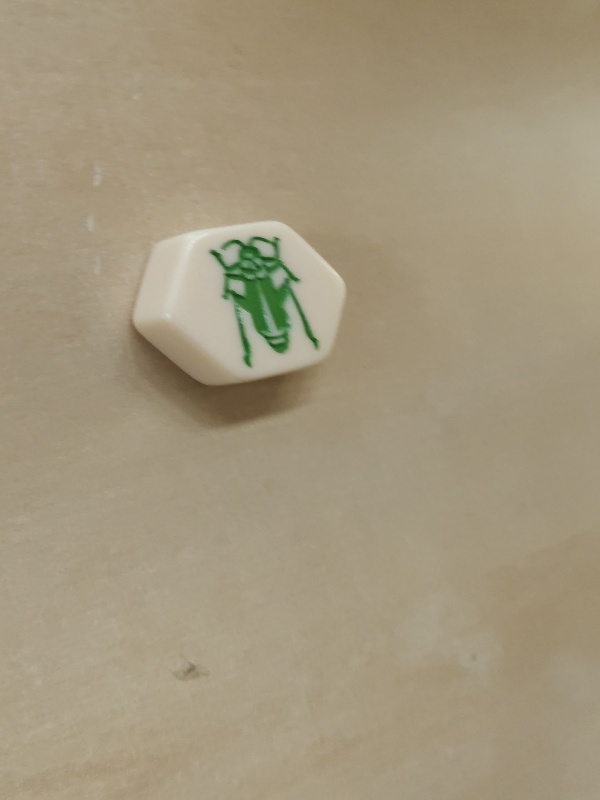white_grasshopper: (132, 216, 358, 395)
